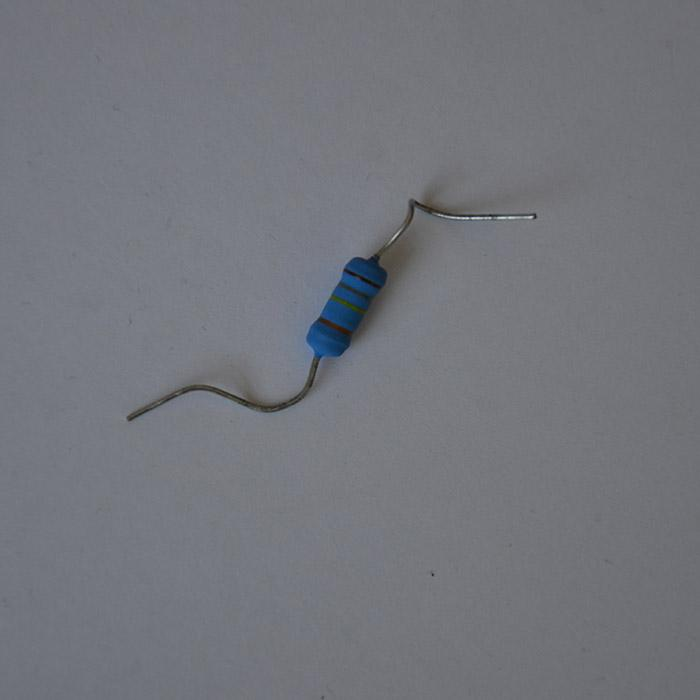resistor: (305, 254, 389, 359)
